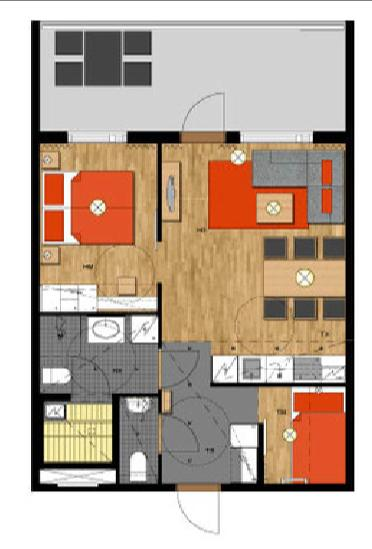bathroom: (39, 314, 158, 396), (120, 396, 160, 484)
door: (176, 88, 230, 148), (176, 480, 224, 532), (68, 353, 114, 406), (154, 345, 203, 392), (155, 410, 202, 458)
perimeter: (34, 129, 356, 491)
window: (234, 126, 317, 147), (61, 126, 131, 148)
